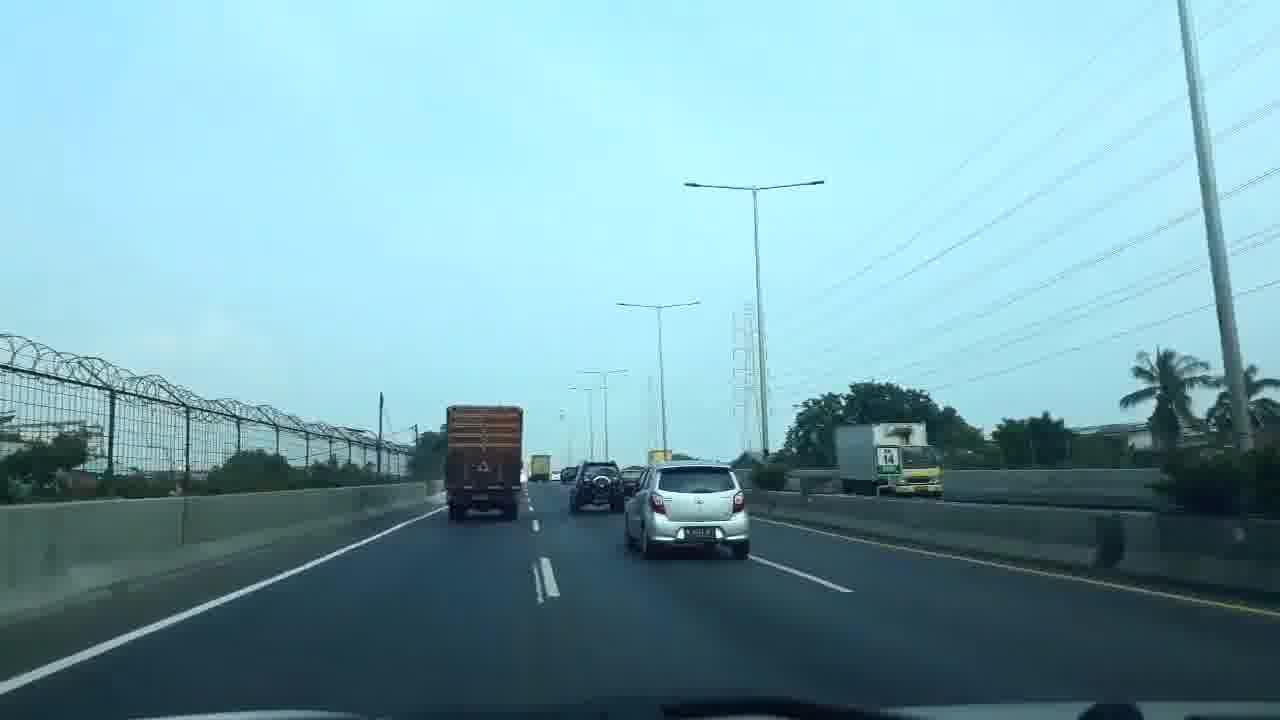plate_positive: (684, 527, 716, 539)
